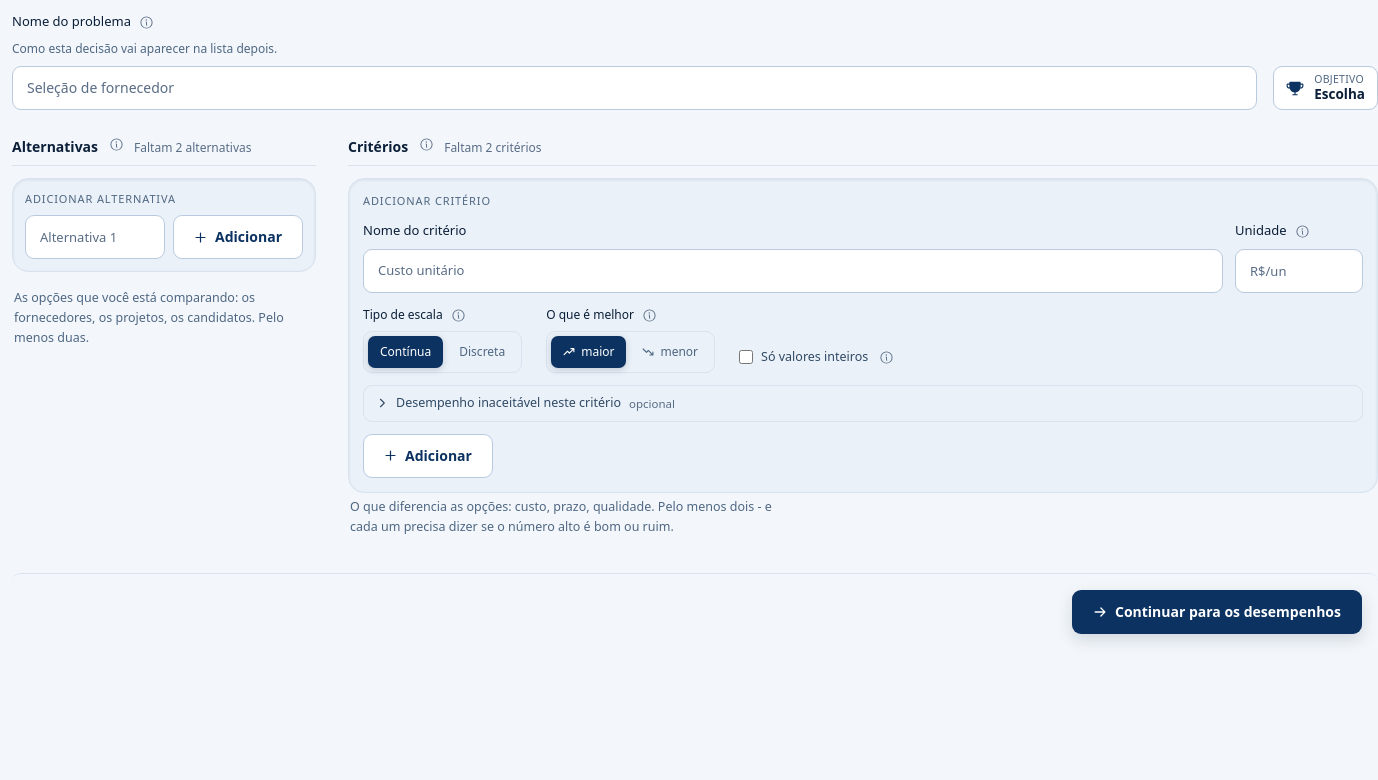
lista de alternativas › edita o nome de uma já cadastrada, sem recriá-la
This screenshot has width=1378, height=780.
Type "Fornecedor A" into the field named "Nome da nova alternativa" at (95, 237), box [25,215,165,259]
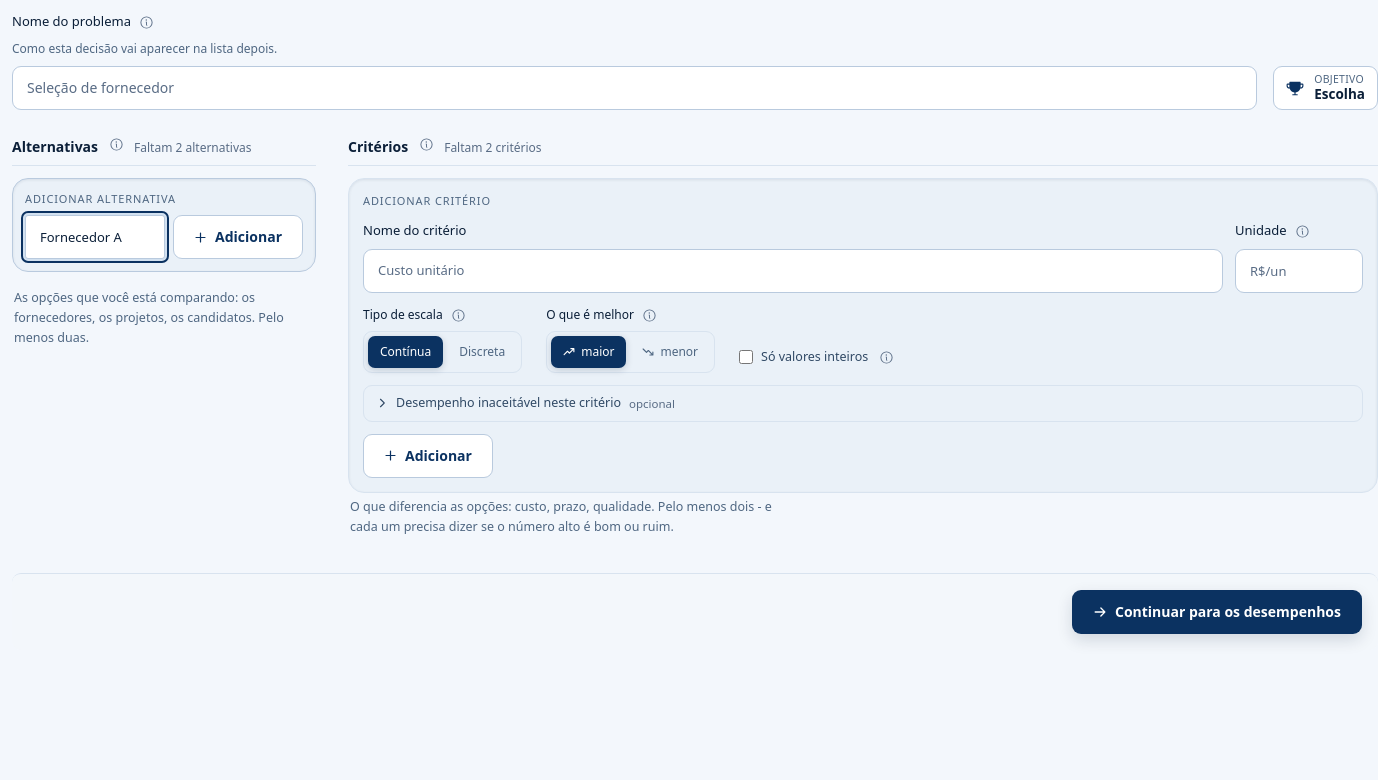
Click the button "Adicionar" below "Adicionar alternativa" at (238, 237), box [173,215,303,259]
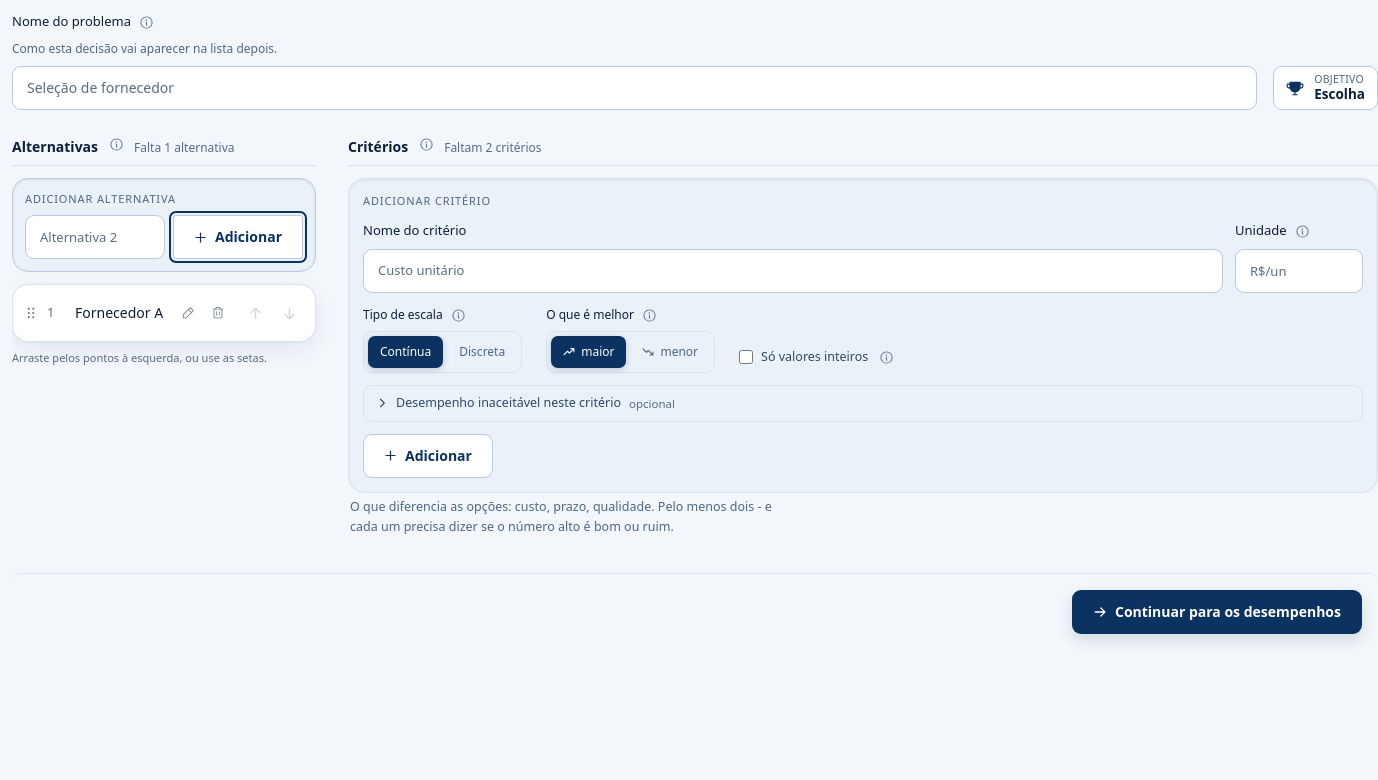
Click the button named "Editar Fornecedor A" at (188, 313), box [175,300,201,326]
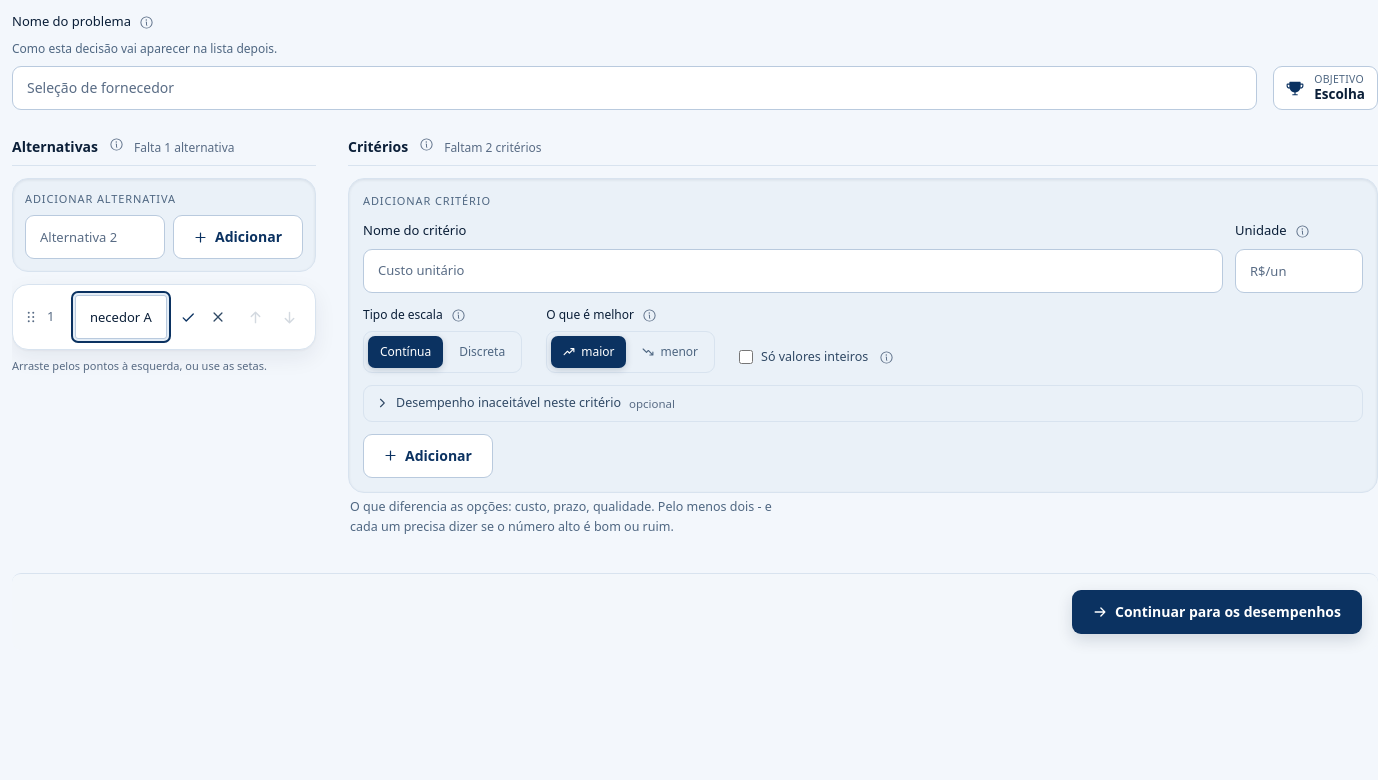
Replace the text in the field named "Novo nome de Fornecedor A" with "Fornecedor Alfa" at (121, 317), box [75,295,167,339]
Then press Enter
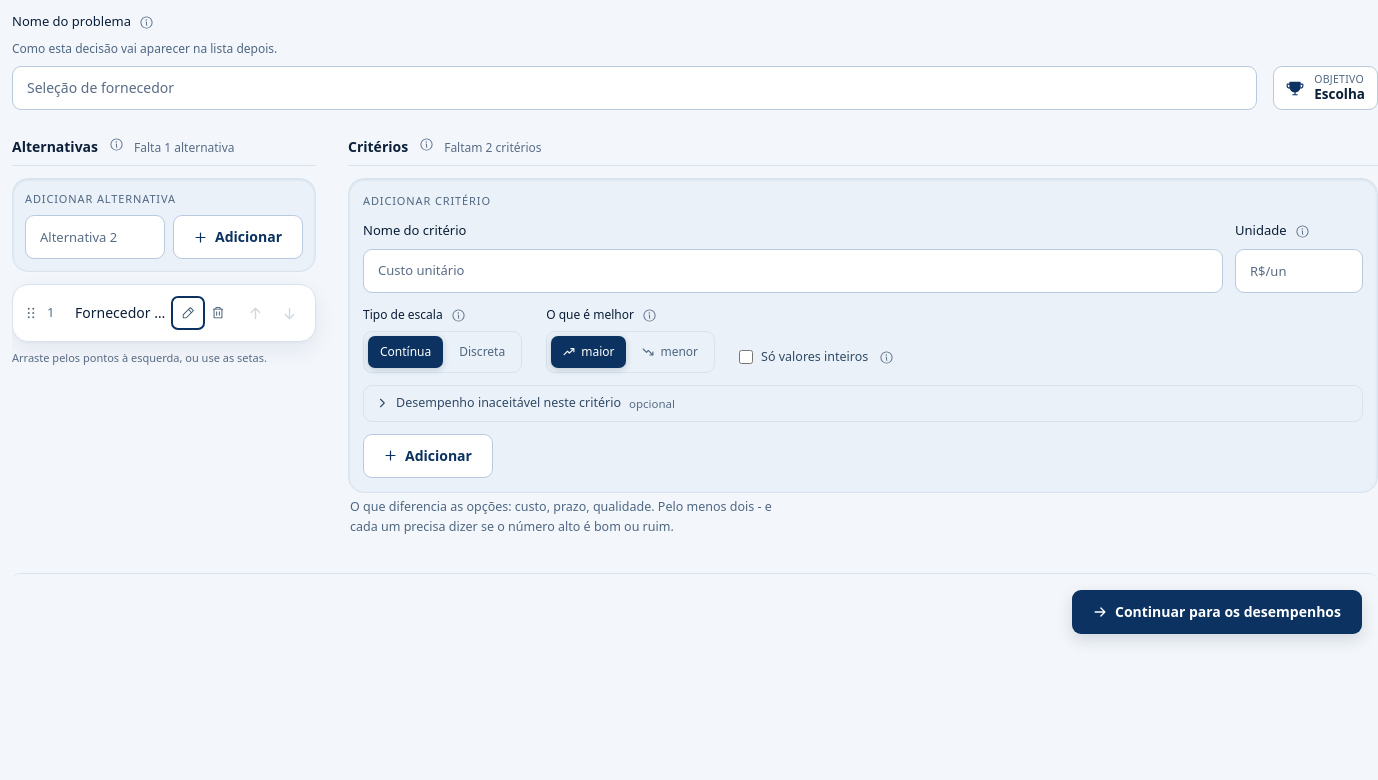
Expected: the text "Falta 1 alternativa" is shown, [134,138,234,156]
Expected: the text "Fornecedor Alfa" is shown, [75,303,167,323]
